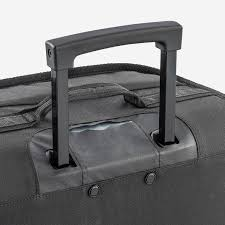suitcase: (1, 21, 224, 225)
